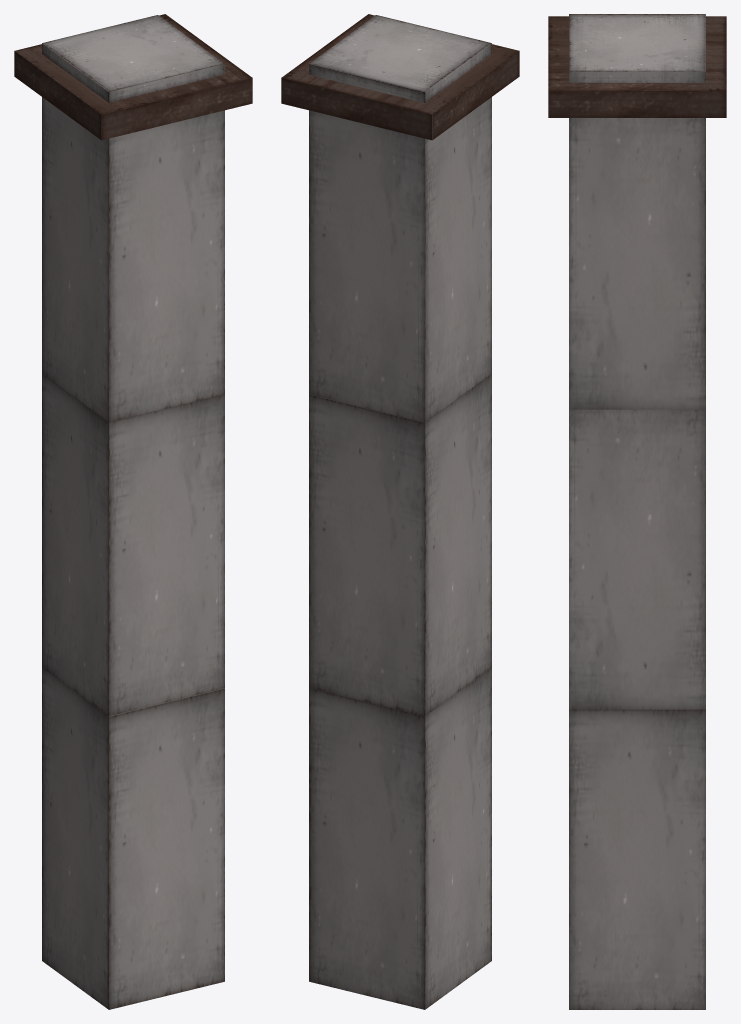
Rendered from Poll_City_1.fbx.
3 views of the same model, side by side, from view 1: azimuth 30°, elevation 25°; view 2: azimuth 150°, elevation 25°; view 3: azimuth 270°, elevation 25° (orthographic). The views are drawn at different scales.
Parts seen in each view (by area): view 1: Cube.098; view 2: Cube.098; view 3: Cube.098.
Part boxes in pixels (box(x1,y1,x2,y2)): Cube.098: box(14, 14, 252, 1009); Cube.098: box(281, 14, 519, 1009); Cube.098: box(548, 14, 726, 1009).
Size of the model in its own units: 0.3292 by 1.91 by 0.3292.
